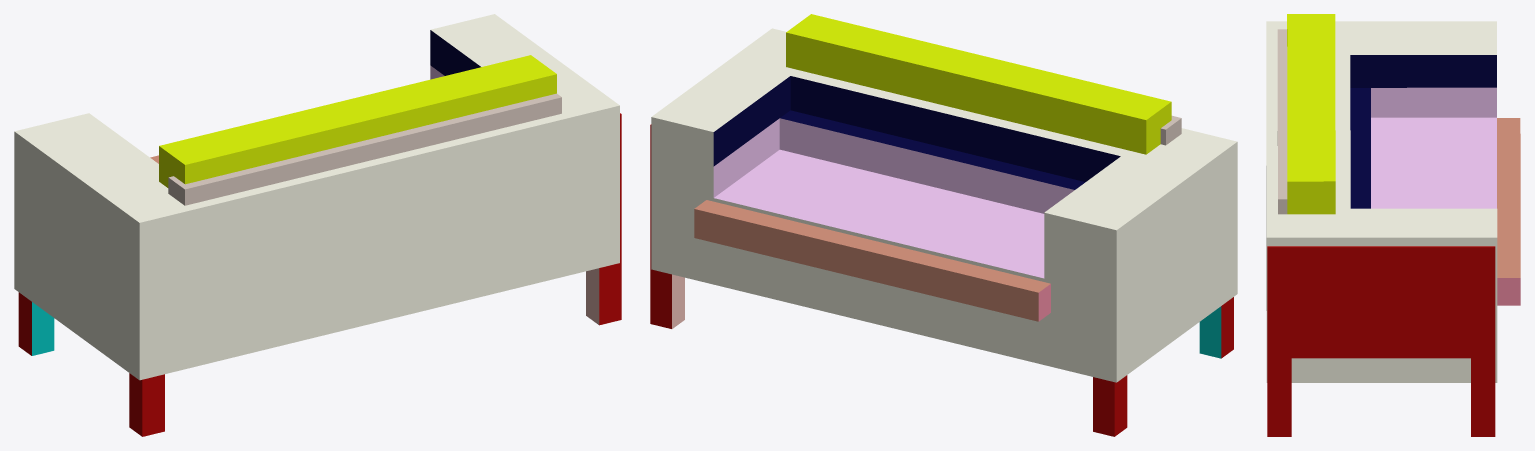
Rendered from 04256520_couch_217.glb.
3 renders of one model, left to right at view 1: azimuth 30°, elevation 25°; view 2: azimuth 150°, elevation 25°; view 3: azimuth 270°, elevation 25°, orthographic. The views are drawn at different scales.
Visible parts, largest first — view 1: Plane; view 2: Plane; view 3: Plane.
Boxes of the visible parts, x1=… form: Plane: x1=14, y1=14, x2=621, y2=436; Plane: x1=650, y1=14, x2=1237, y2=436; Plane: x1=1266, y1=14, x2=1520, y2=436.
Bounding box in the file's own units: 1.73 × 0.8602 × 0.8576.
